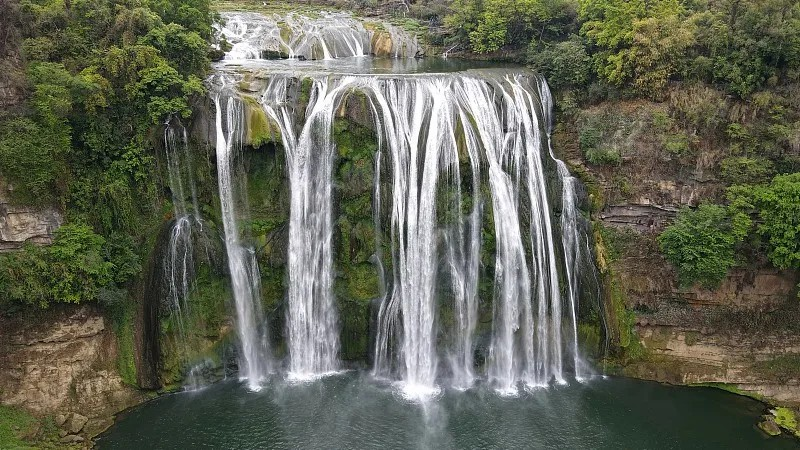Huangguoshu: (157, 12, 584, 393)
